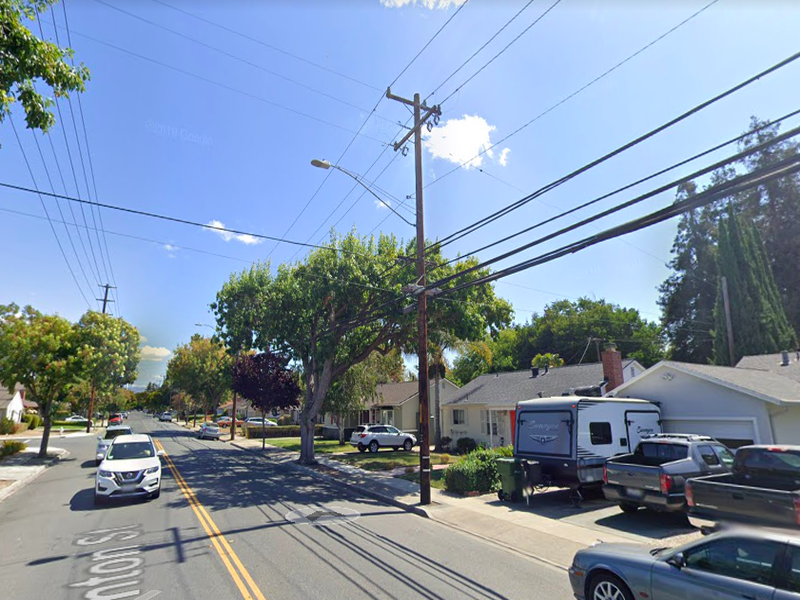tree: (206, 222, 513, 465), (1, 308, 144, 459)
utility_pole: (375, 79, 449, 163), (87, 272, 119, 313)
